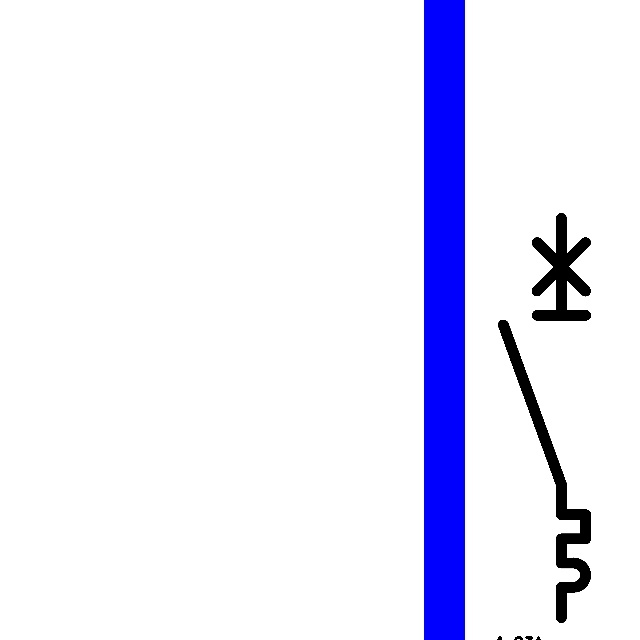interruptor_termomagnetico: (493, 208, 596, 628)
